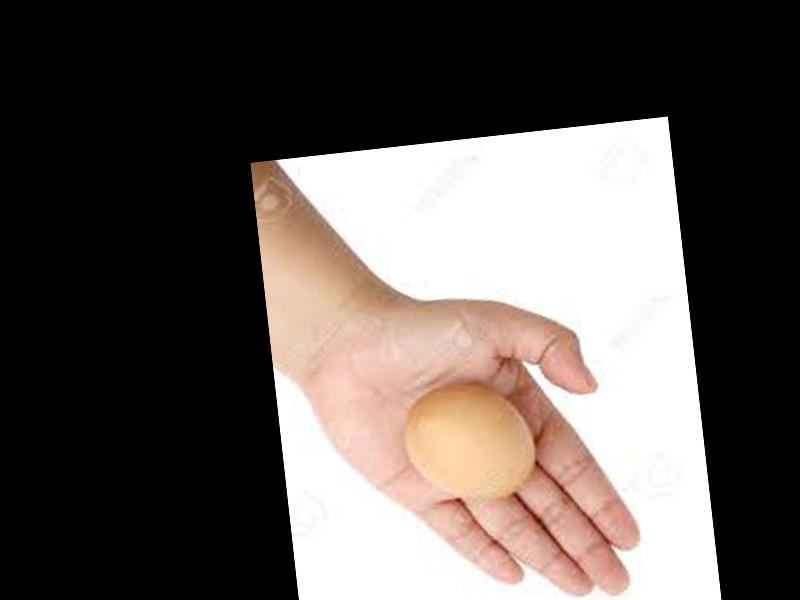Eggs: (399, 375, 538, 505)
